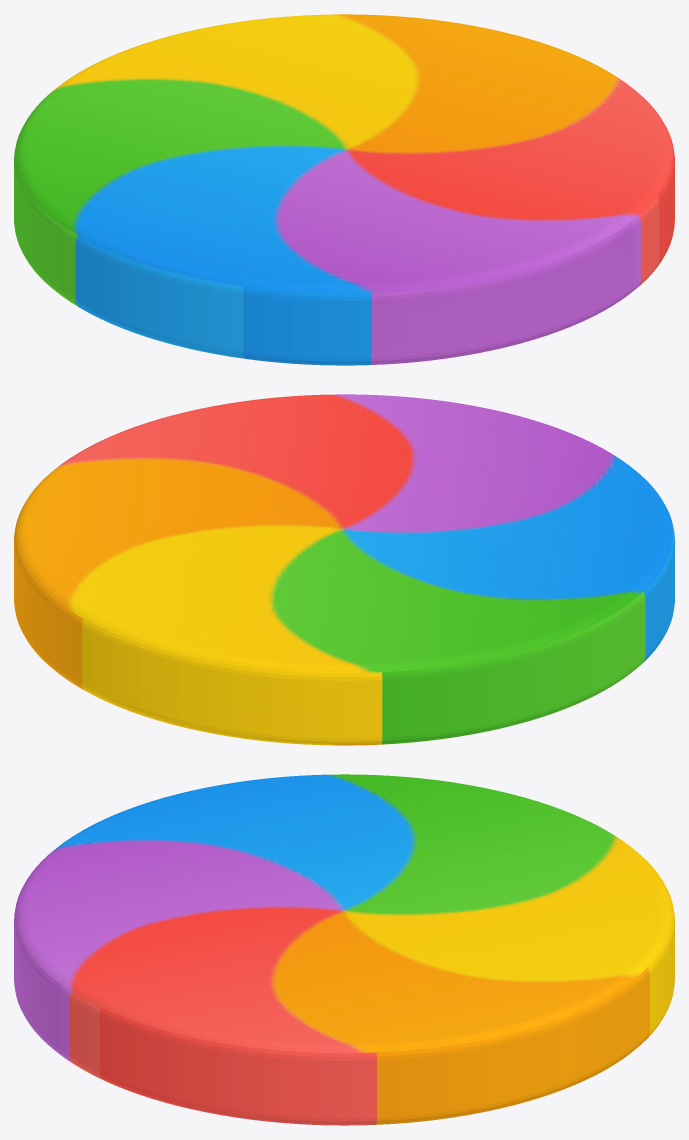
The model's file is wheelofdeath.glb.
3 renders of one model, top to bottom at view 1: azimuth 30°, elevation 25°; view 2: azimuth 150°, elevation 25°; view 3: azimuth 270°, elevation 25°, orthographic.
Parts seen in each view (by area): view 1: Cylinder; view 2: Cylinder; view 3: Cylinder.
Part boxes in pixels (x1=…): Cylinder: x1=14, y1=14, x2=674, y2=365; Cylinder: x1=14, y1=394, x2=674, y2=745; Cylinder: x1=14, y1=774, x2=674, y2=1125.
Bounding box in the file's own units: 0.9957 × 0.1332 × 0.9957.
1 material, 1 textured.
